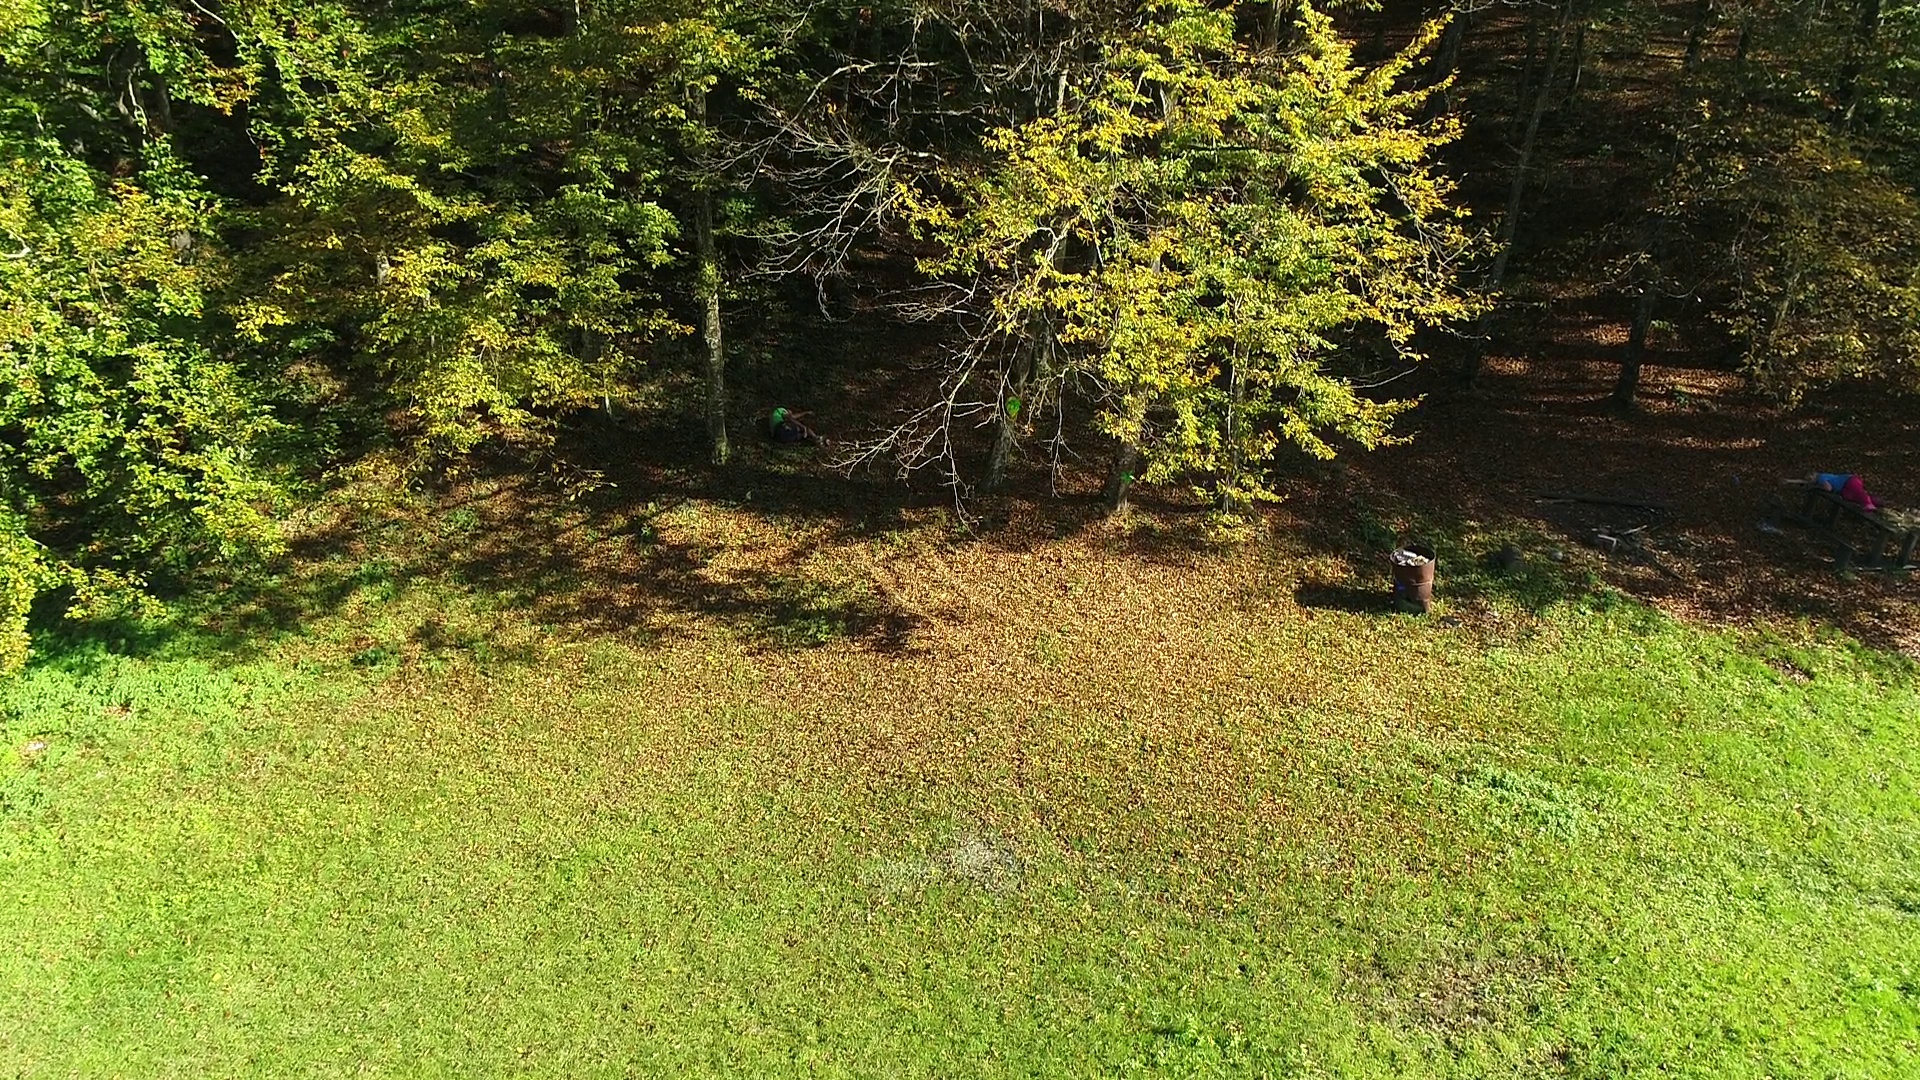person: (1778, 470, 1885, 512), (768, 407, 826, 448)
